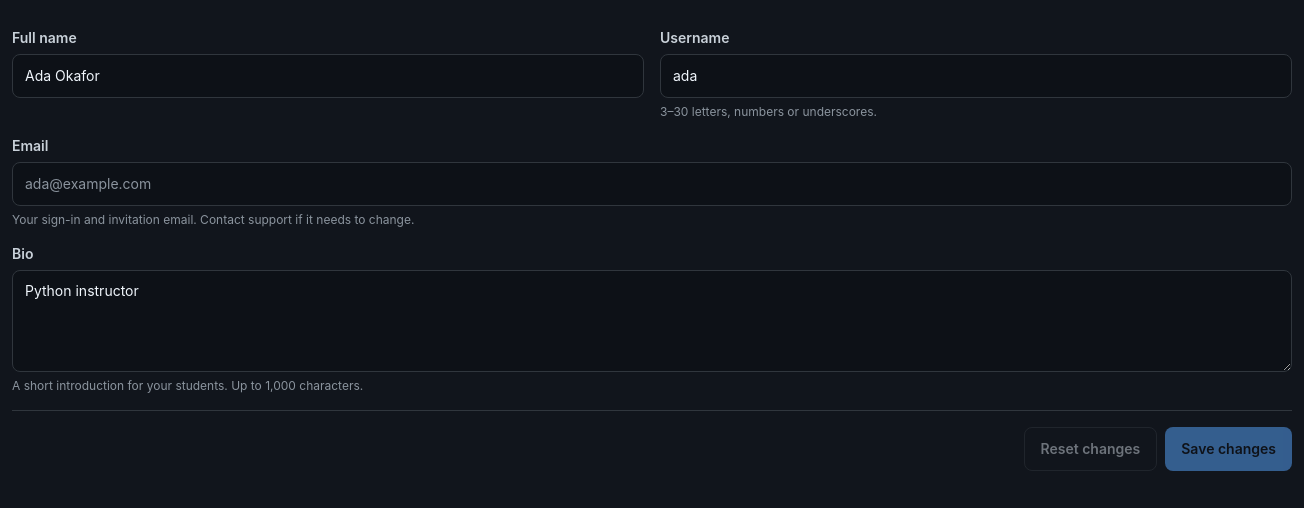
Test case: sends only changed profile fields and updates the signed-in username
The width and height of the screenshot is (1304, 508).
Check: the button "Save changes" is disabled, box x1=1165 y1=427 x2=1292 y2=471
Replace the text in the field labelled "Username" with "ada_new" at (976, 76), box x1=660 y1=54 x2=1292 y2=98
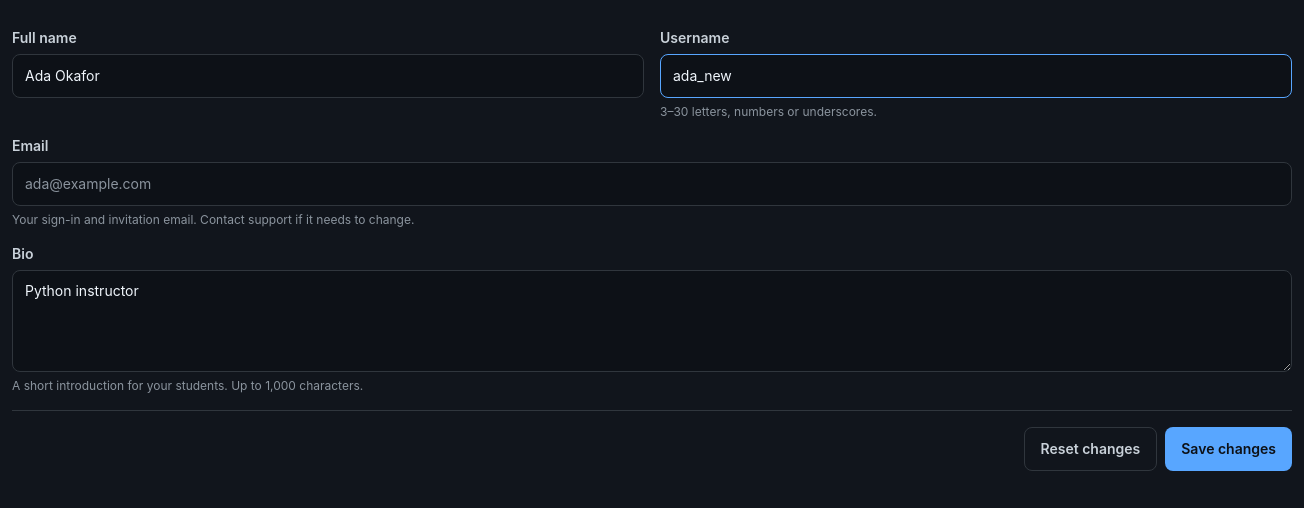
Click the button "Save changes" at (1229, 449), box x1=1165 y1=427 x2=1292 y2=471
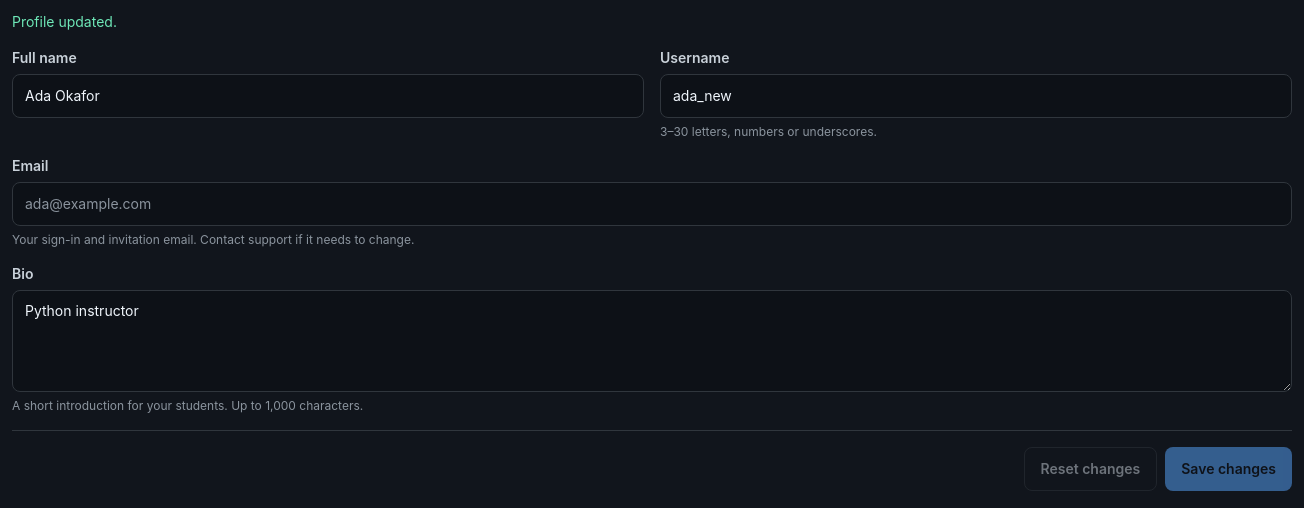
Check: the text "Profile updated." is shown, box x1=12 y1=13 x2=117 y2=30
